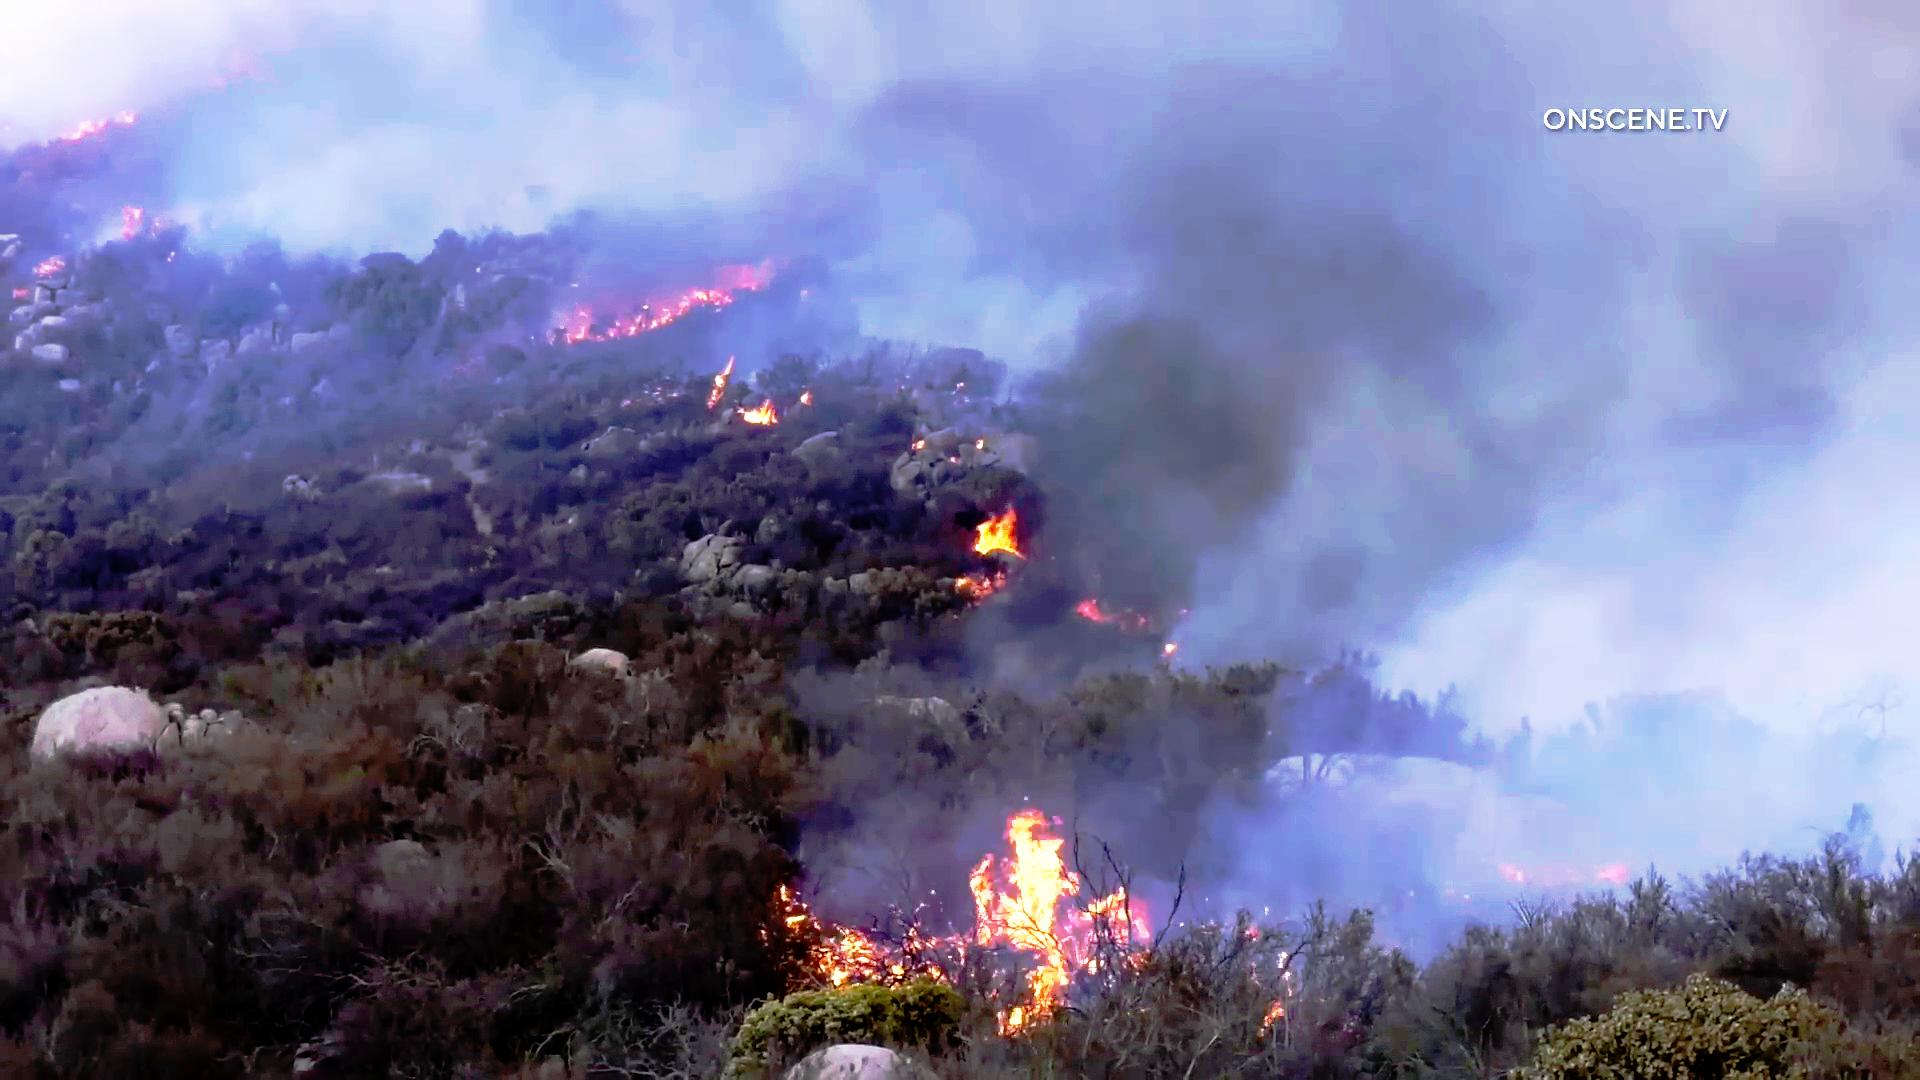fire: (756, 803, 1141, 994)
smoke: (1266, 219, 1565, 644)
